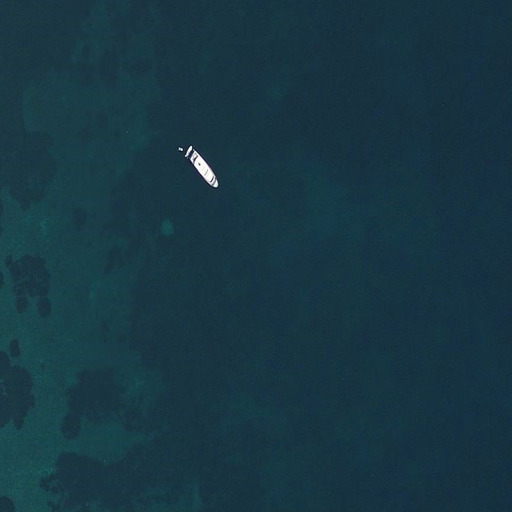ship: (184, 143, 221, 190)
